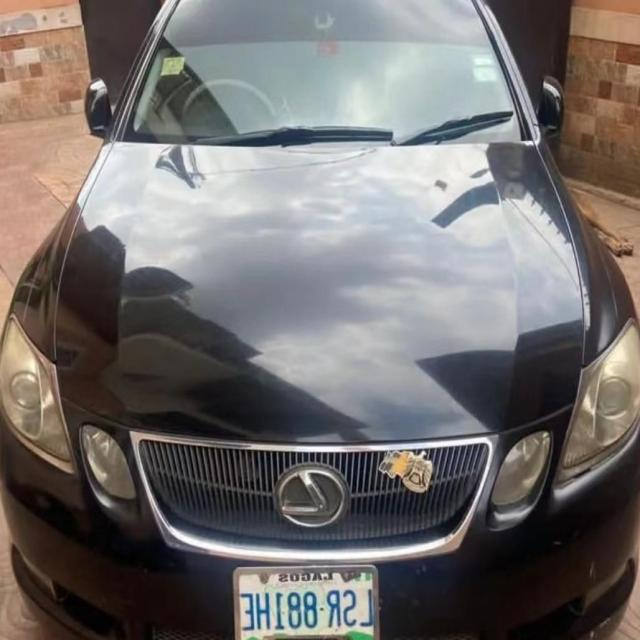Nigerian License Plate - vdataset benjamin-daria: (234, 561, 382, 640)
